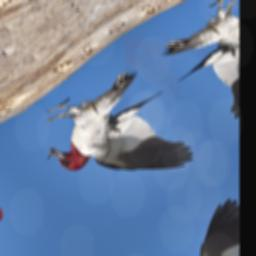Woodpecker: (21, 56, 214, 219)
